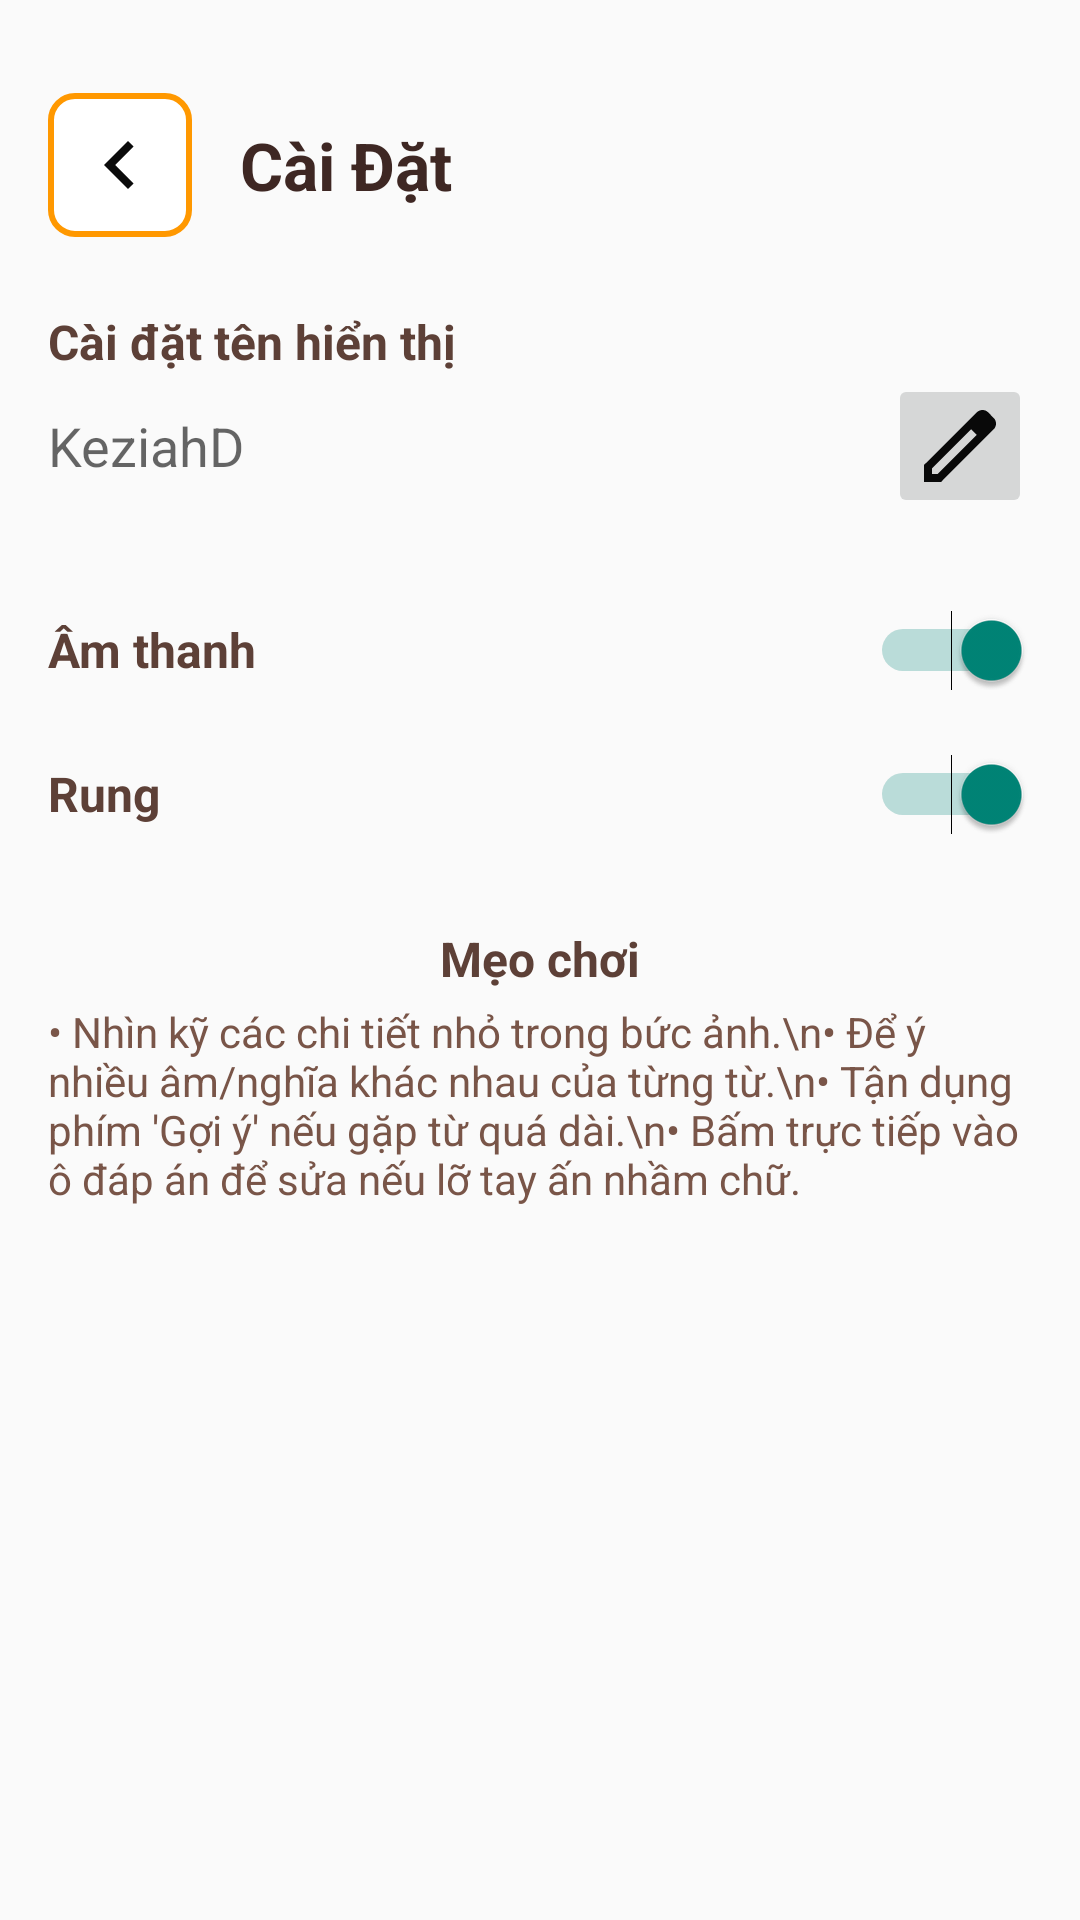

Icons on this 1080 x 1920 Android screen, each with the point to tap as (x=x, y=y):
Edit player name: (x=960, y=446)
Nút quay lại màn hình trước: (x=120, y=165)
